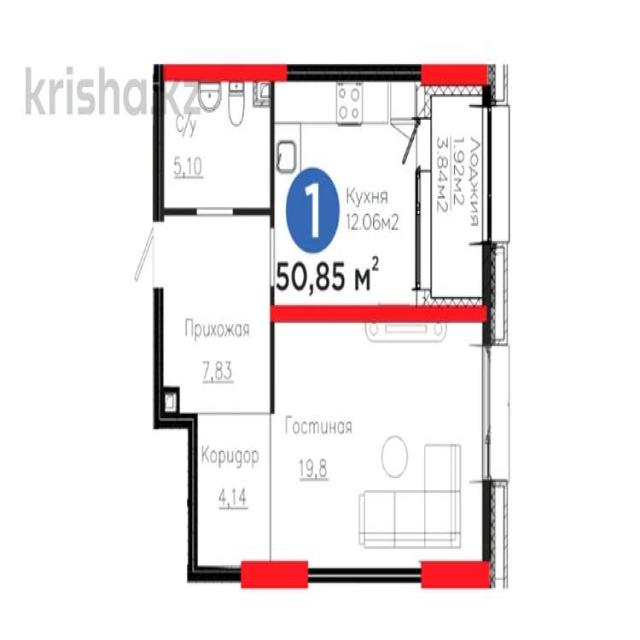balcony: (424, 70, 491, 318)
bathroom: (155, 73, 274, 210)
hallway: (154, 212, 273, 420), (195, 406, 272, 575)
kitchen: (273, 67, 428, 322)
living_room: (270, 312, 490, 573)
